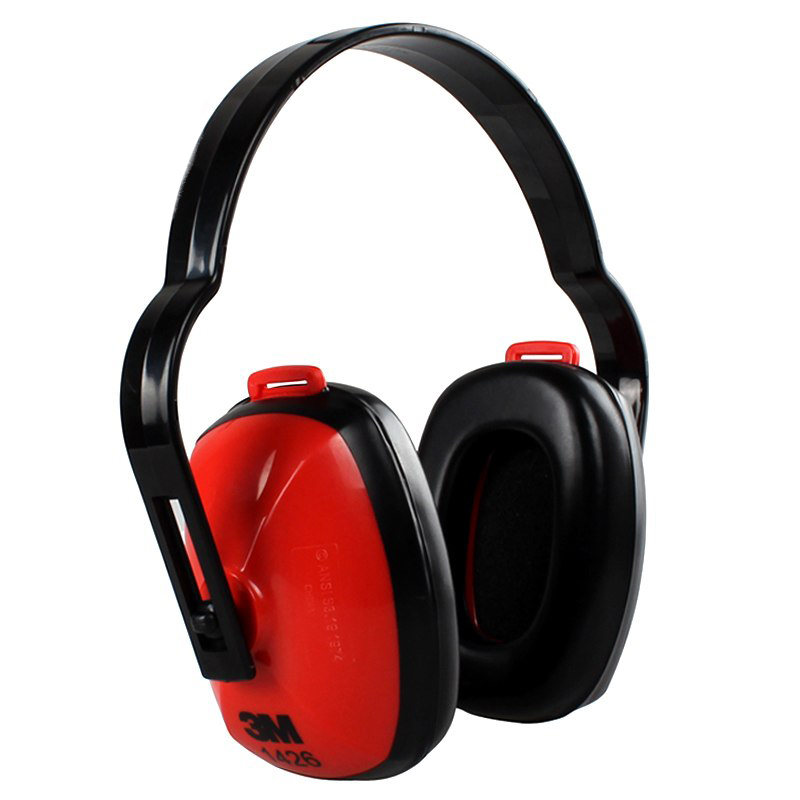3M: (233, 703, 309, 750)
